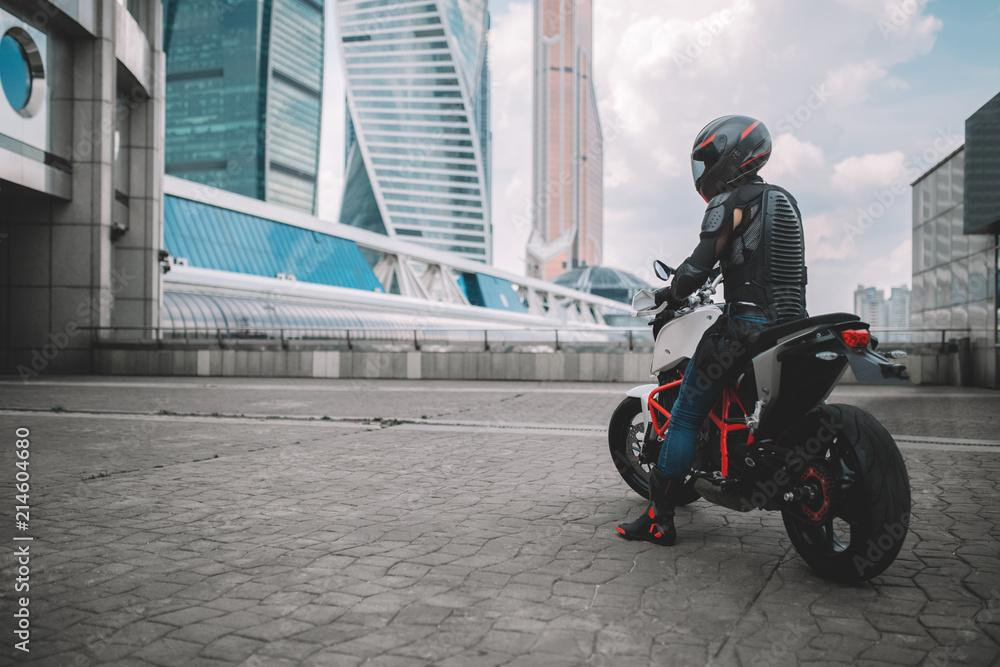helmet: (690, 114, 773, 204)
